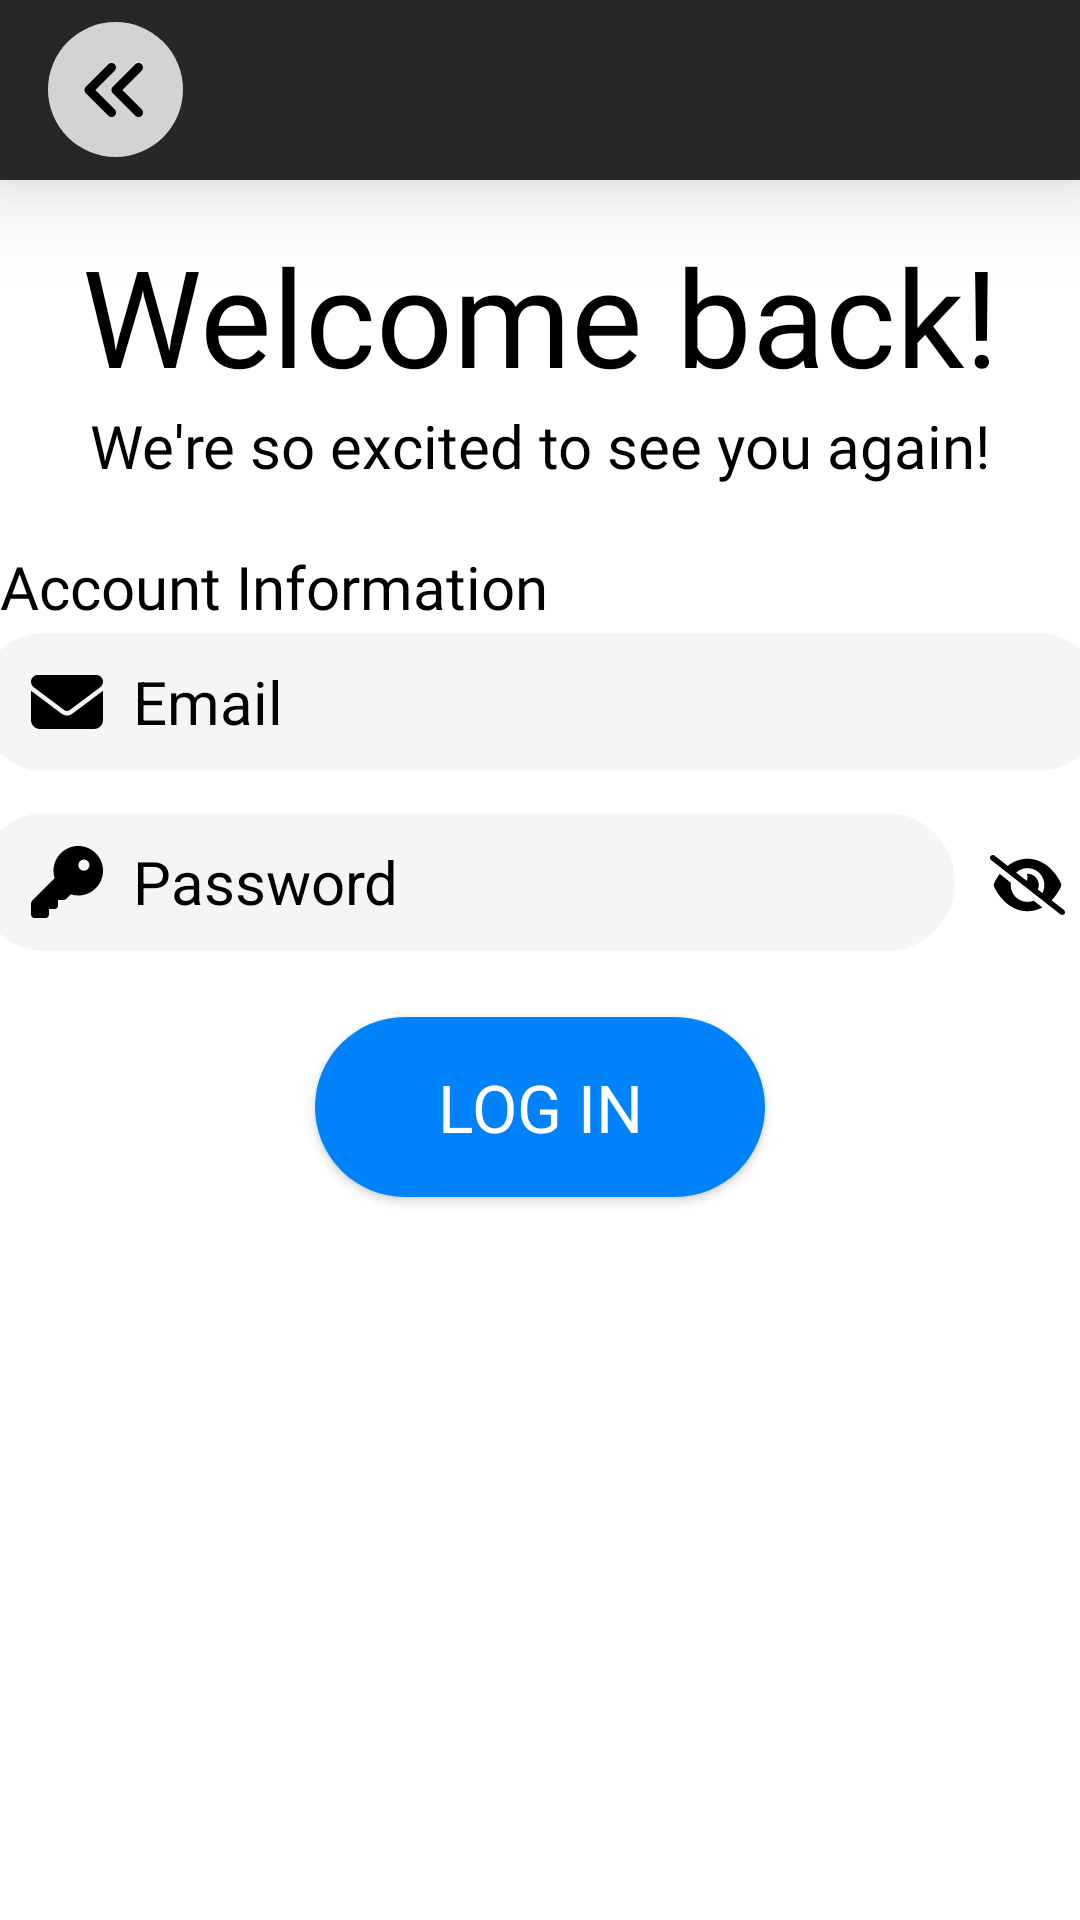

Screen size 1080 × 1920. Icon name, then its box in pixels as (x1, y1, x2, y2):
invisible: (990, 855, 1065, 915)
